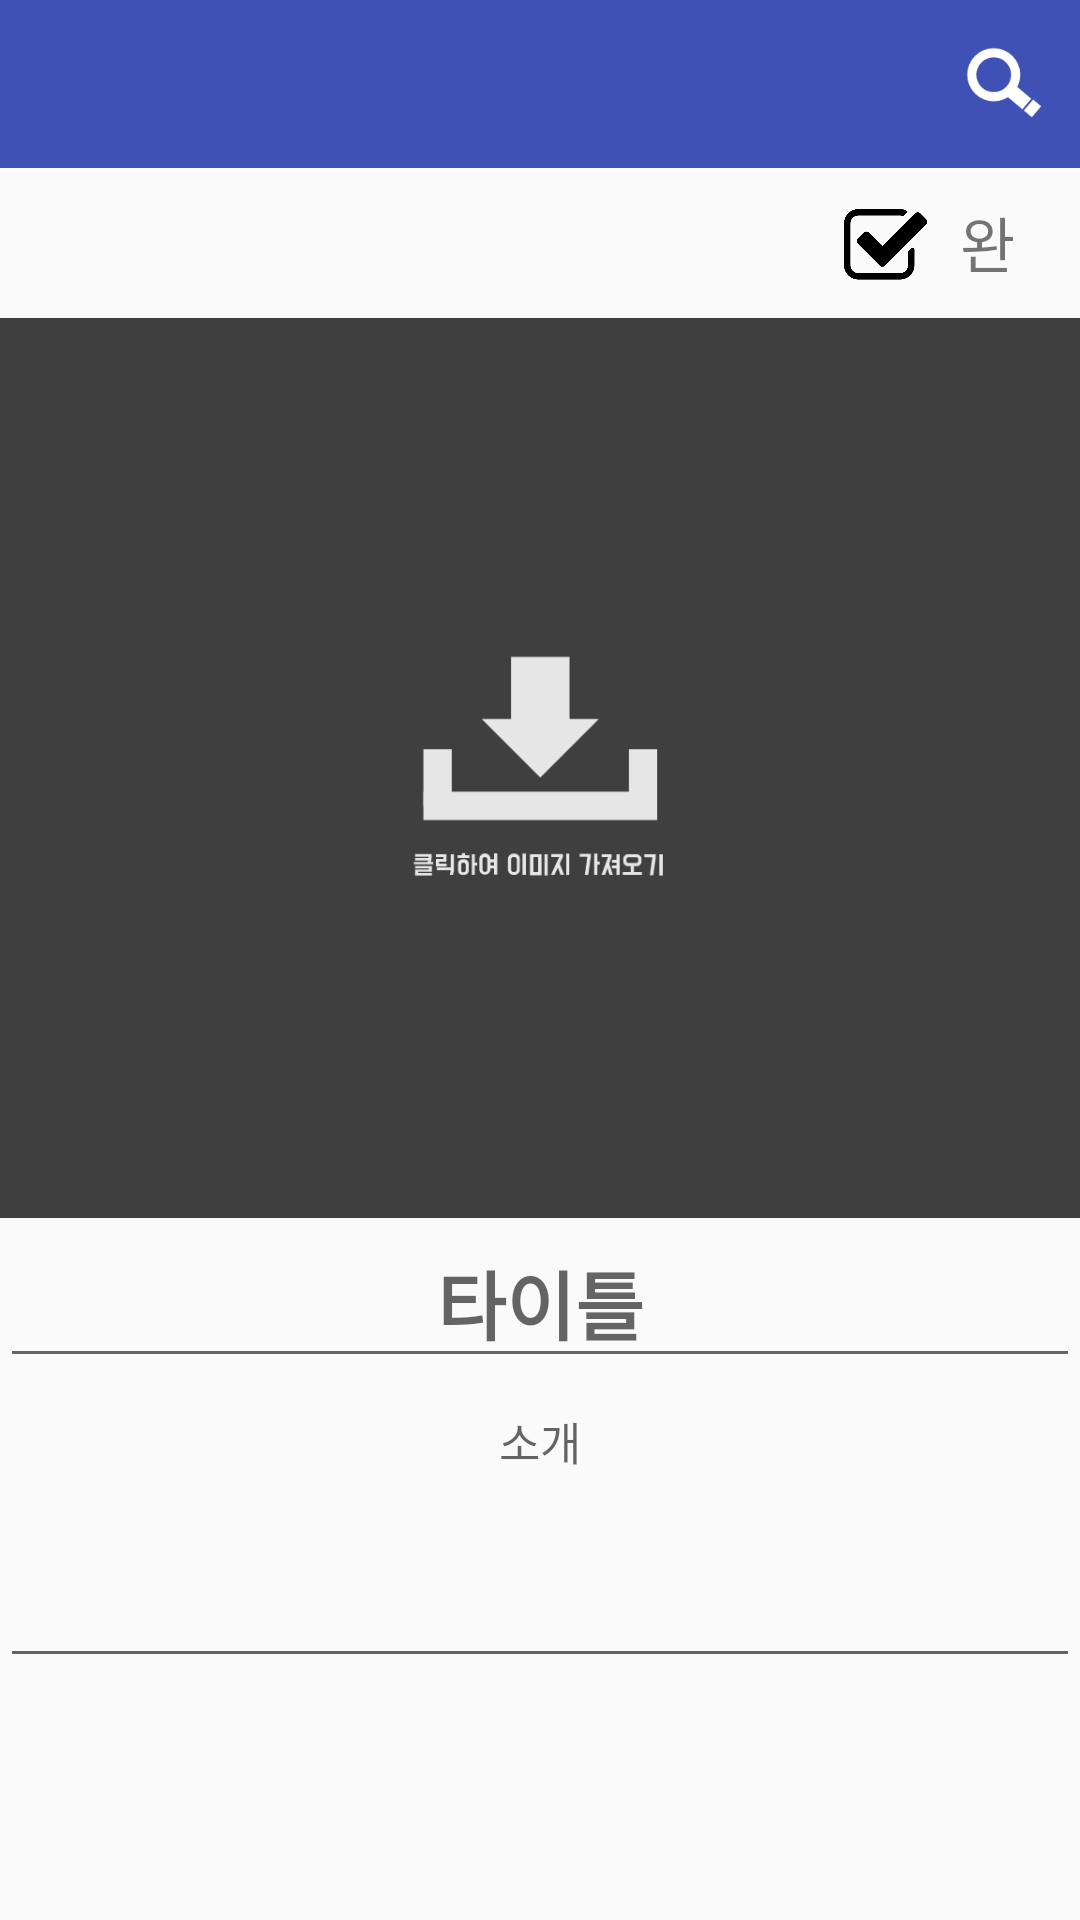

Point at icon controls on the screen. Image size 1080*1920, points as [x,y].
check: [885,244]
search: [1004,82]
